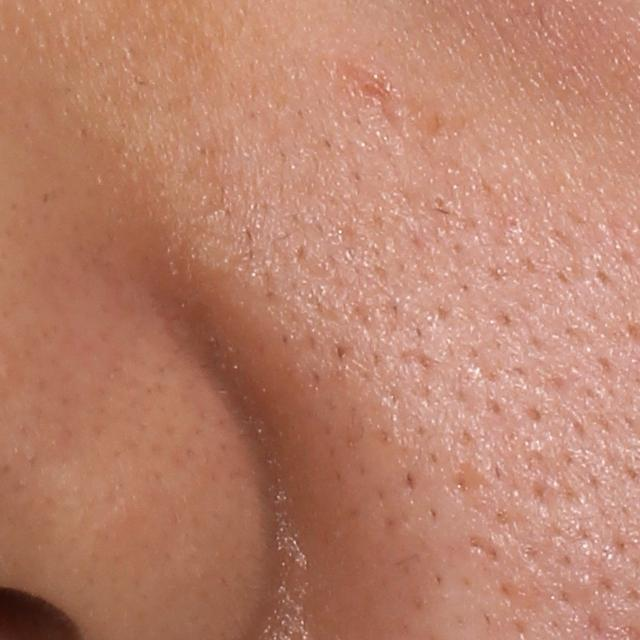atrophic_scar: (443, 457, 494, 503), (462, 532, 507, 566)
comedo: (430, 191, 449, 210)
